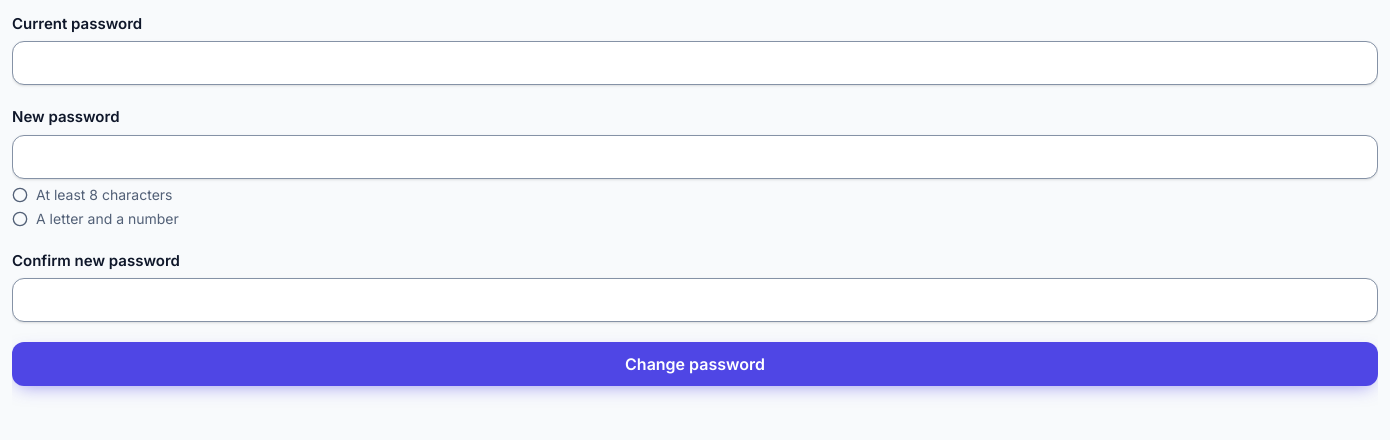
Test case: ChangePasswordForm › a weak new password from the server is shown on the new-password field
Type "Sunrise2026x" into the password field with test id "change-password-current-input".
click(695, 63); type("Sunrise2026x")  # box [12,41,1378,85]
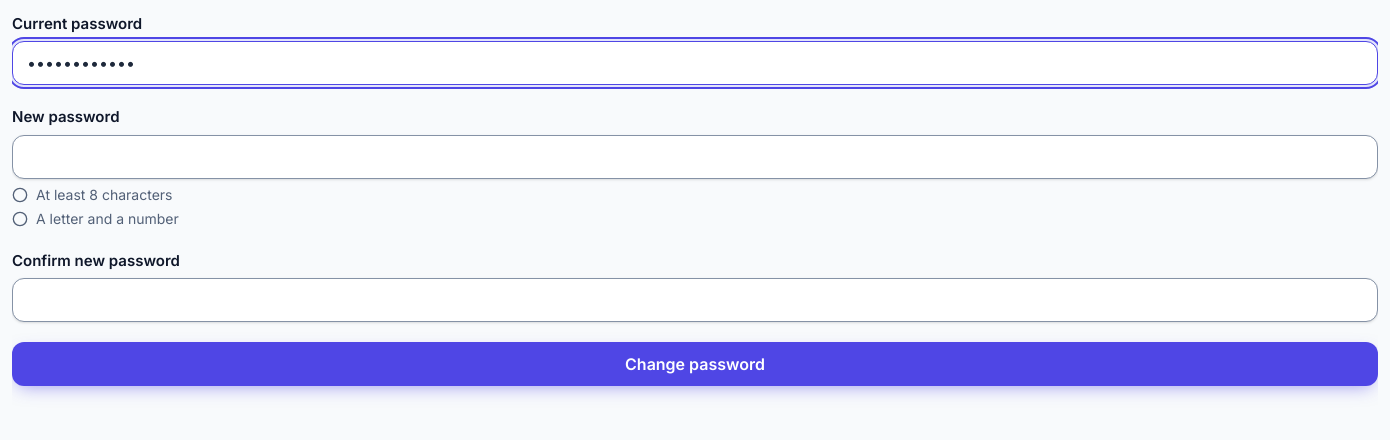
Type "Password2026" into the password field with test id "change-password-new-input".
click(695, 156); type("Password2026")  # box [12,134,1378,178]
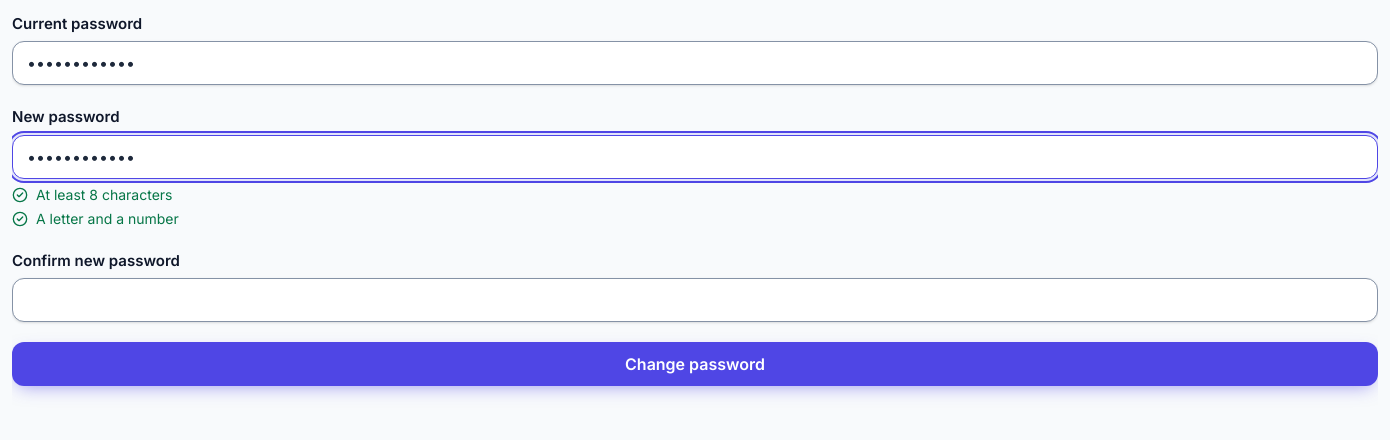
Type "Password2026" into the password field with test id "change-password-confirm-input".
click(695, 300); type("Password2026")  # box [12,278,1378,322]
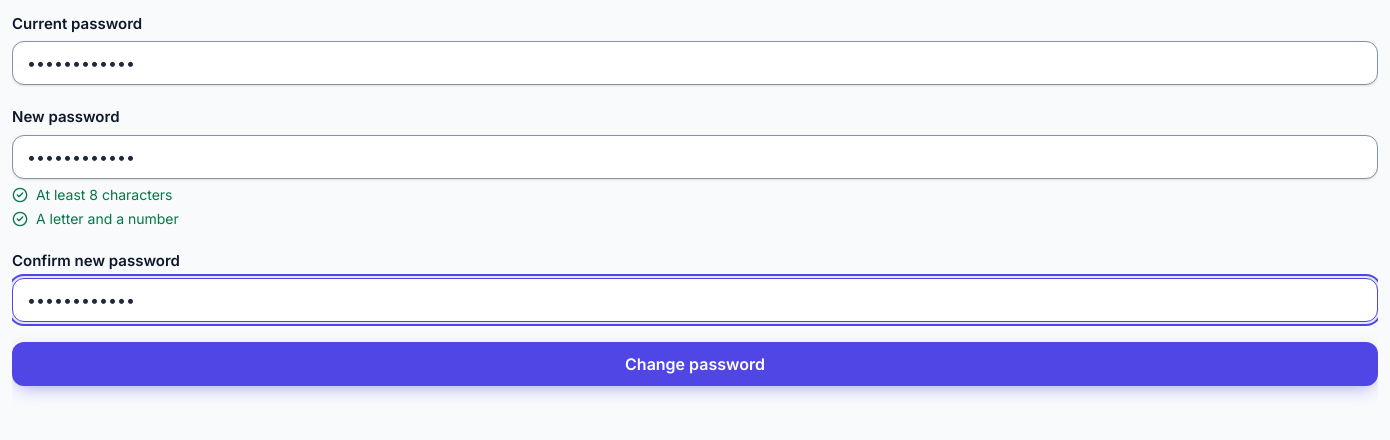
Click the button with test id "change-password-submit-button".
click(695, 364)  # box [12,342,1378,386]
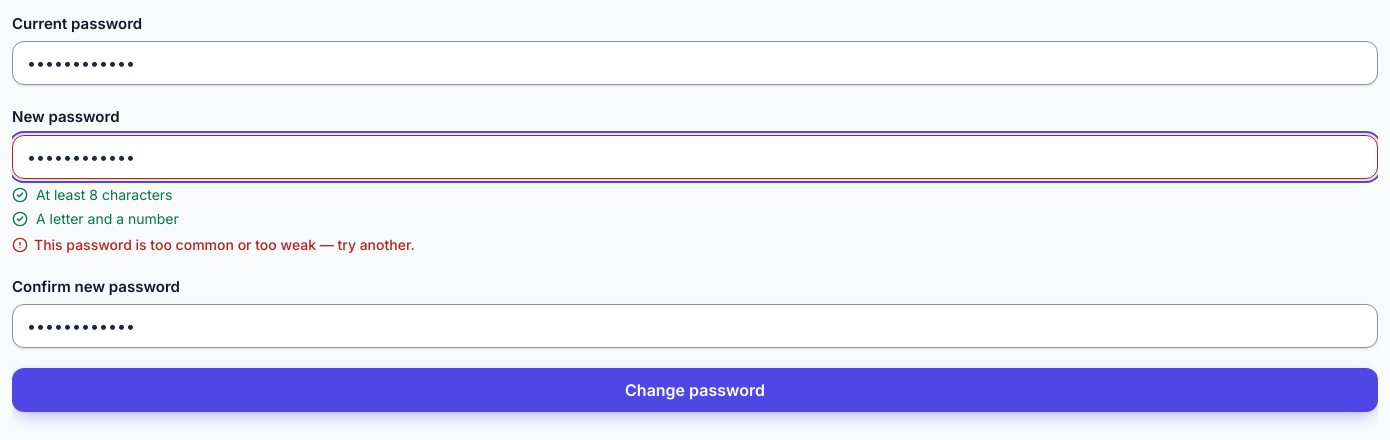
Check: the element with test id "newPassword-error" shows "too common", box [34,236,415,252]
